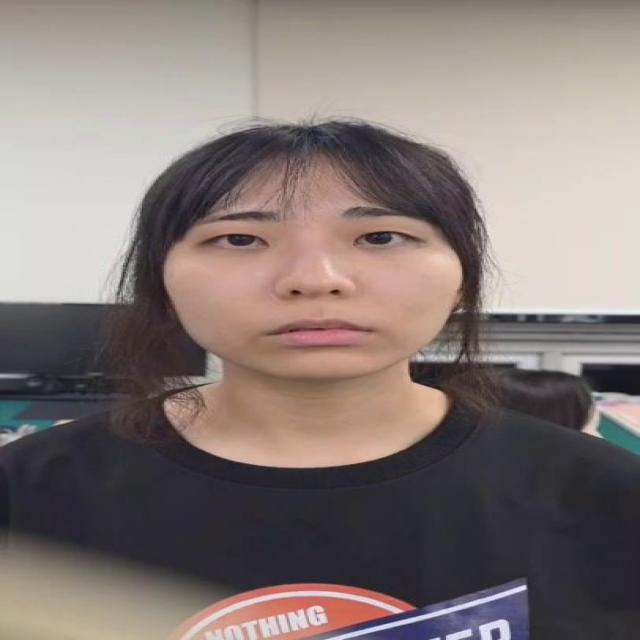eyes: (182, 224, 440, 261)
face: (164, 120, 470, 382)
iris_center: (355, 227, 394, 248), (221, 229, 253, 249)
